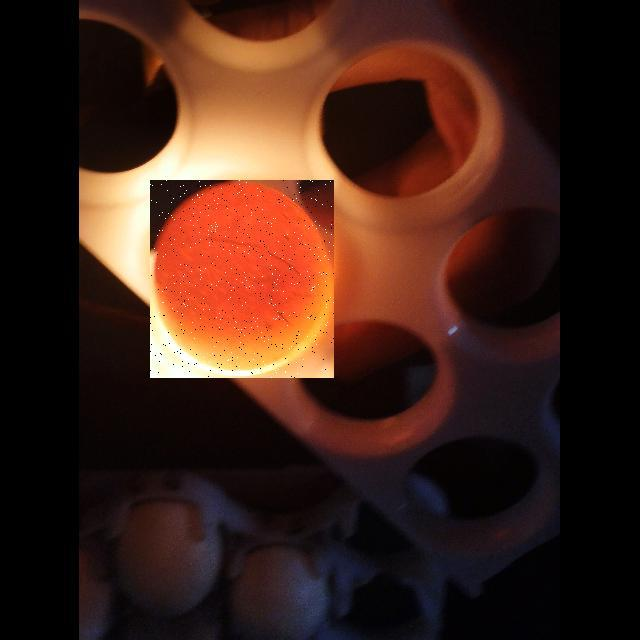Infertile: (150, 180, 334, 378)
